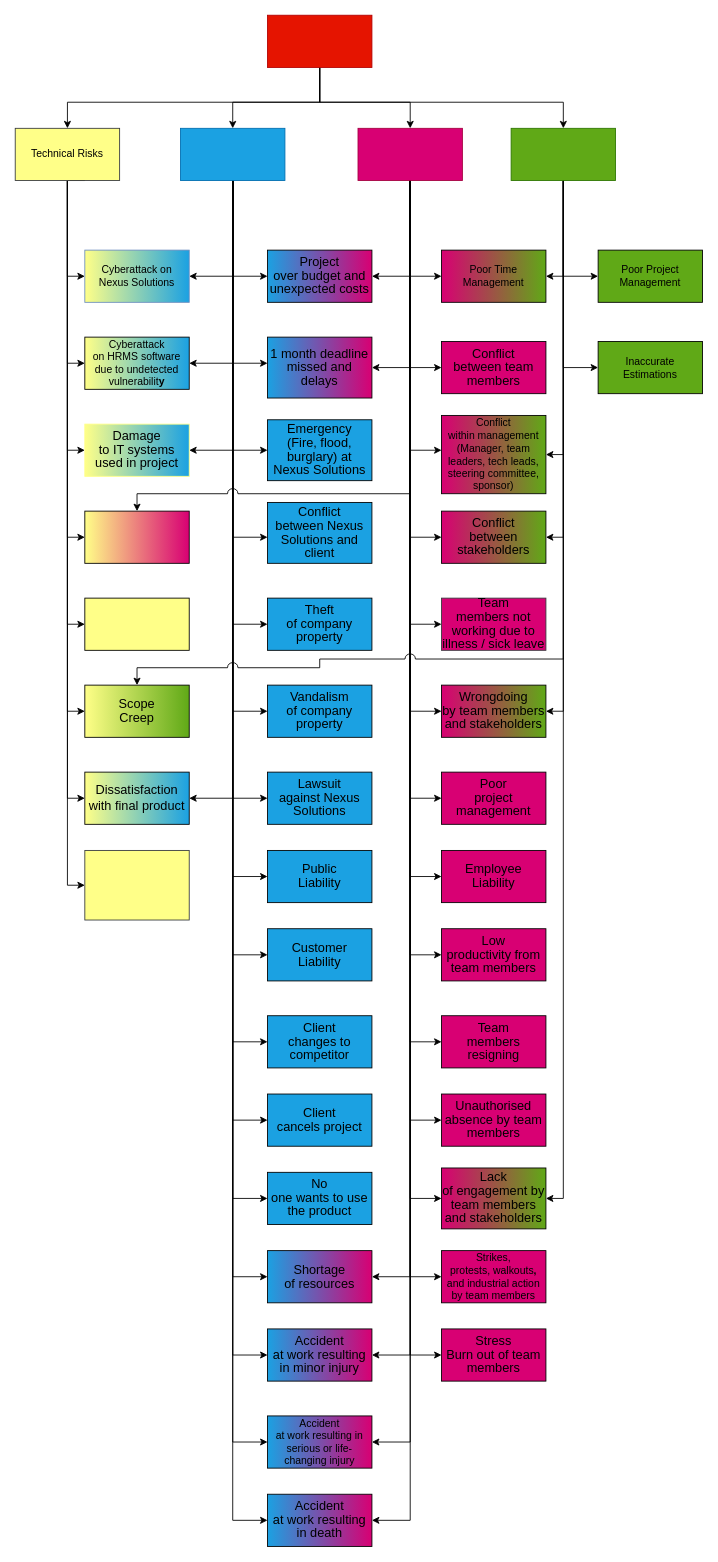
This 718x1562 diagram has some shape labels left out. The shapes that lost their labels are listed below. From the top down, each one's box as (x1, y1, x2, y2) in pixels, then its label:
(267, 14, 372, 67): HRMS Project Risks
(180, 127, 285, 181): External Risks
(357, 127, 462, 181): Organisational Risks
(510, 127, 616, 181): Project Management Risks
(84, 510, 189, 563): Accident at work resulting in property damage/destruction
(84, 597, 189, 650): Data Loss
(84, 850, 189, 920): Issues with code, design, bugs and defects after handover to engineering company
